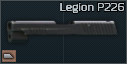P226 Legion full size pistol slide: (0, 0, 127, 64)
